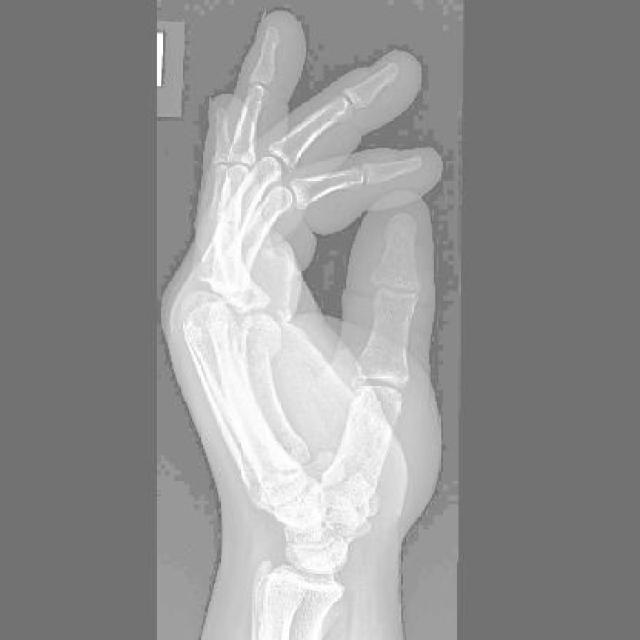Fracture: (236, 332, 279, 371)
